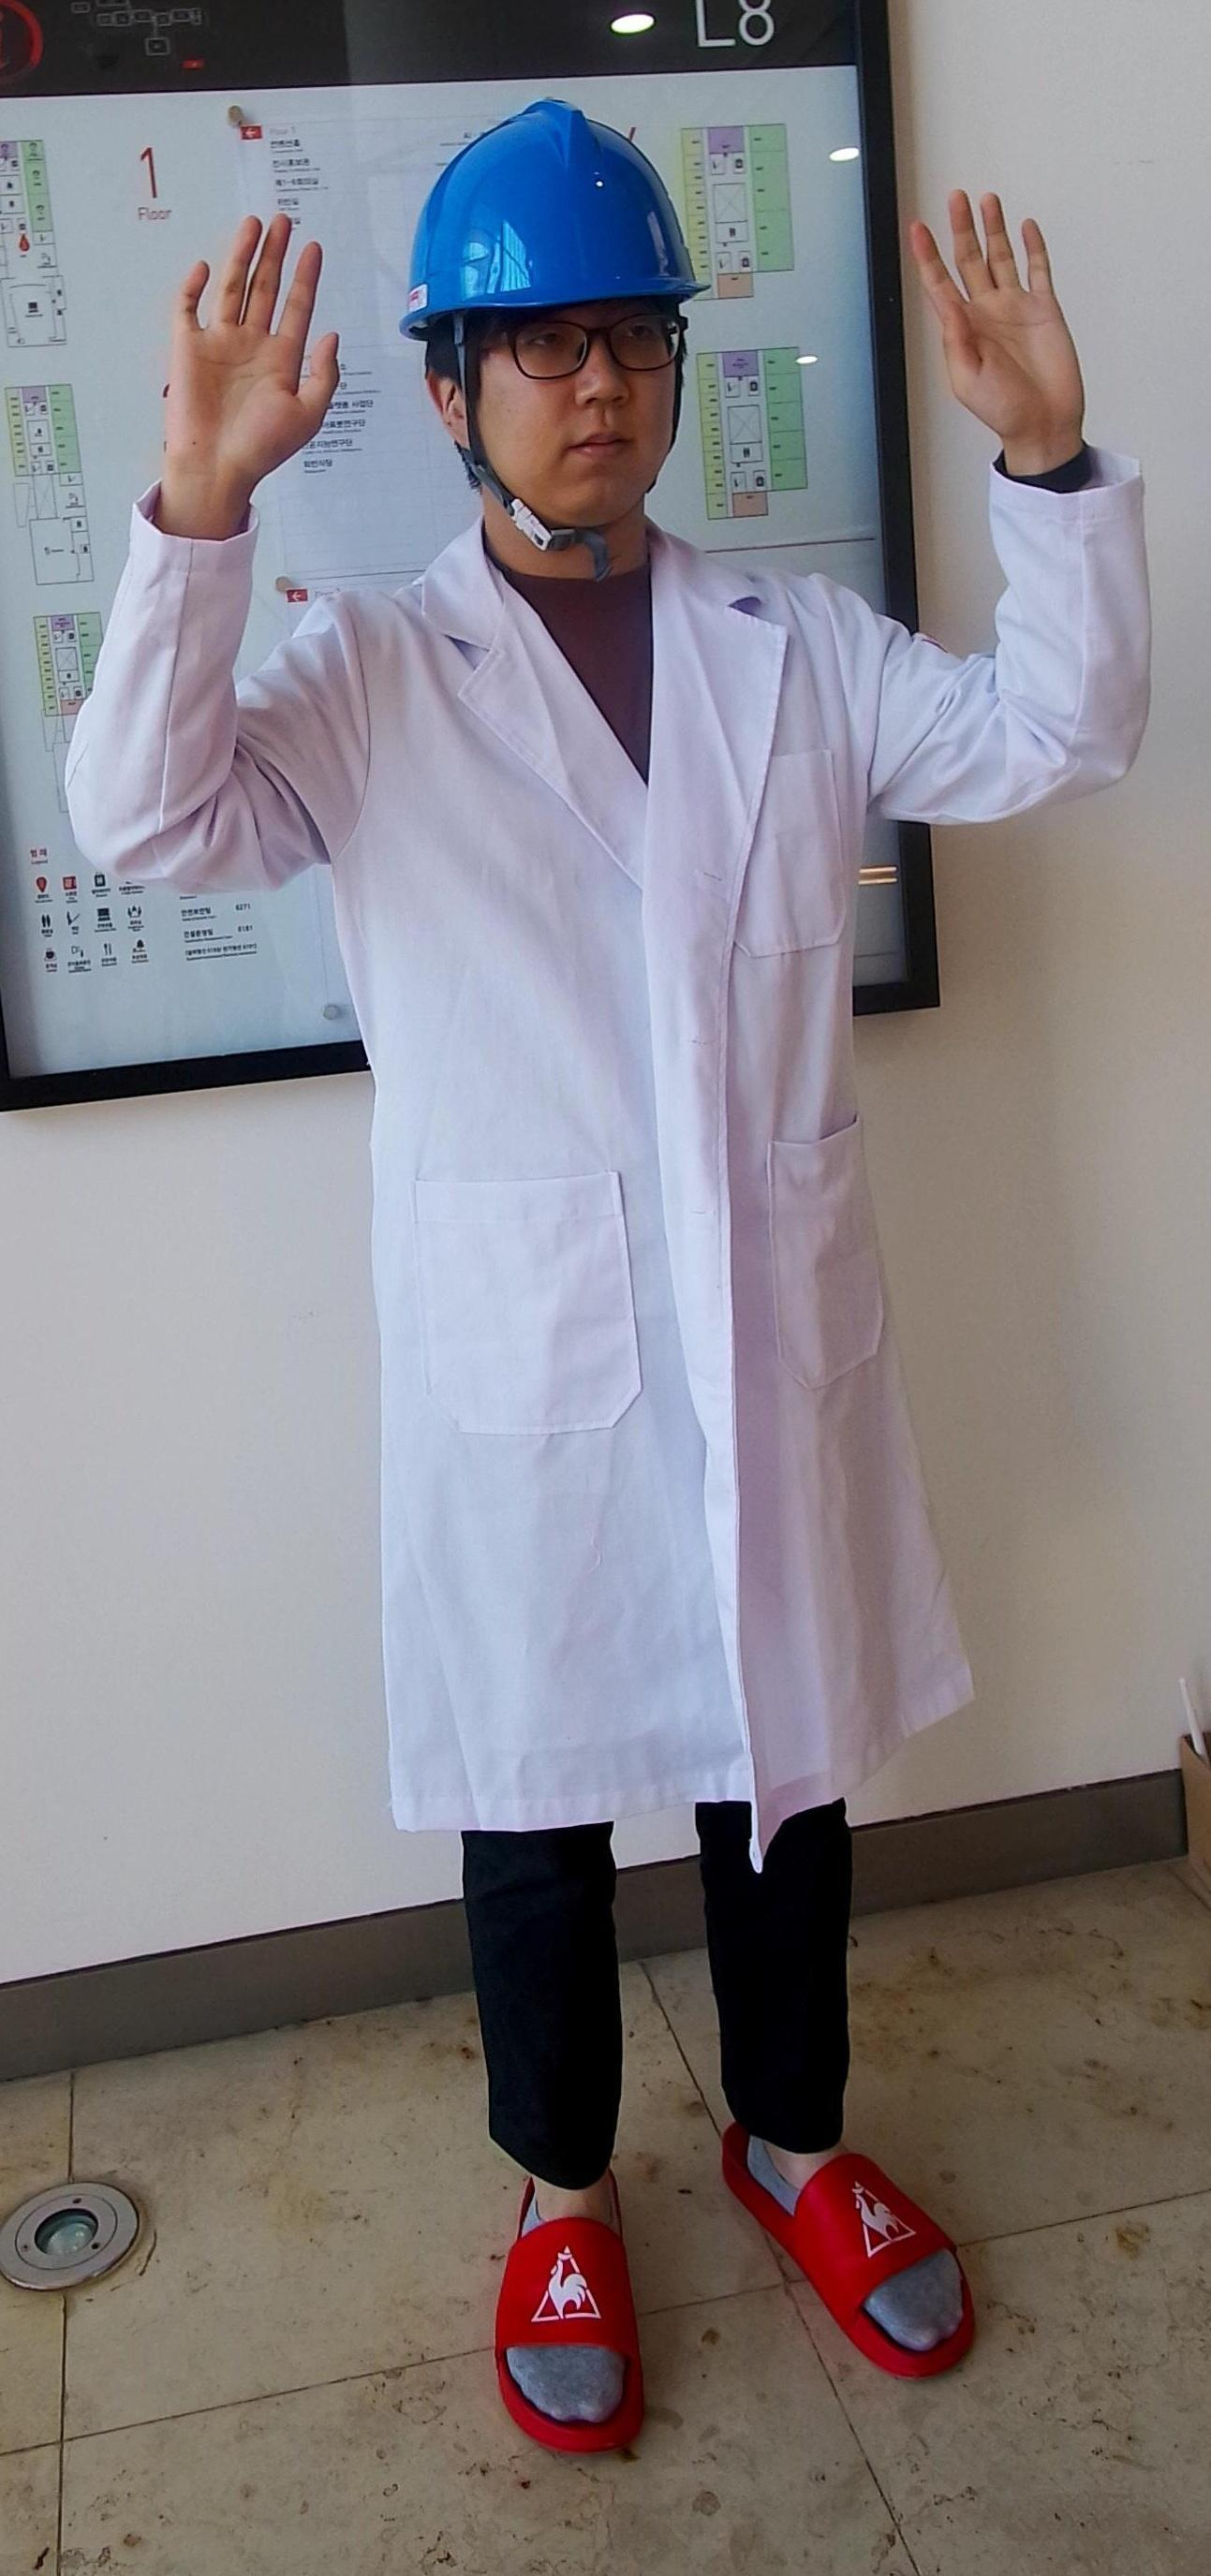lab_coat: (281, 549, 961, 1824)
